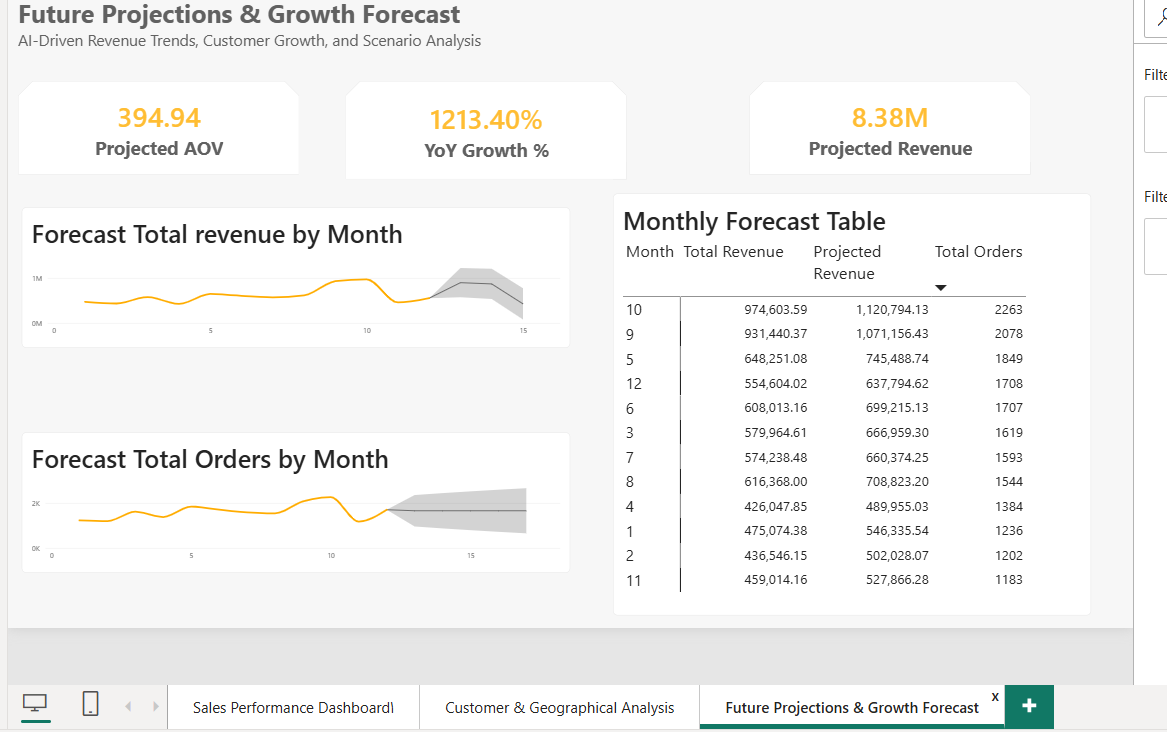

This screenshot's page, from the dashboard's own definition file:
{"tool":"powerbi","page":{"name":"Future Projections & Growth Forecast","canvas":[1920,1080],"ordinal":2},"visuals":[{"type":"textbox","box":[16,0,800,288],"z":0},{"type":"cardVisual","fields":{"Data":["clean_data.Projected AOV"]},"box":[16,144,480,160],"z":1},{"type":"cardVisual","fields":{"Data":["clean_data.YoY Growth %"]},"box":[576,144,480,168],"z":2},{"type":"cardVisual","fields":{"Data":["clean_data.Projected Revenue"]},"box":[1264,144,480,160],"z":3},{"type":"lineChart","title":"Forecast Total revenue by Month","fields":{"Category":["Dim_clender.Month"],"Y":["clean_data.Total Revenue"]},"box":[24,360,936,240],"z":4},{"type":"lineChart","title":"Forecast Total Orders by Month","fields":{"Category":["Dim_clender.Month"],"Y":["clean_data.Total Orders"]},"box":[24,744,936,240],"z":5},{"type":"pivotTable","title":"Monthly Forecast Table","fields":{"Rows":["Dim_clender.Month"],"Values":["clean_data.Total Revenue","clean_data.Projected Revenue","clean_data.Total Orders"]},"box":[1032,336,816,720],"z":6}]}

Visuals, with their boxes on the page's 1920x1080 design canvas (x1, y1, x2, y2). These are canvas units, not pixel positions in the 1167x732 screenshot, which may show the page scaled, cropped or inside an application window:
textbox: box=[16, 0, 816, 288]
cardVisual - clean_data.Projected AOV: box=[16, 144, 496, 304]
cardVisual - clean_data.YoY Growth %: box=[576, 144, 1056, 312]
cardVisual - clean_data.Projected Revenue: box=[1264, 144, 1744, 304]
"Forecast Total revenue by Month" lineChart: box=[24, 360, 960, 600]
"Forecast Total Orders by Month" lineChart: box=[24, 744, 960, 984]
"Monthly Forecast Table" pivotTable: box=[1032, 336, 1848, 1056]
